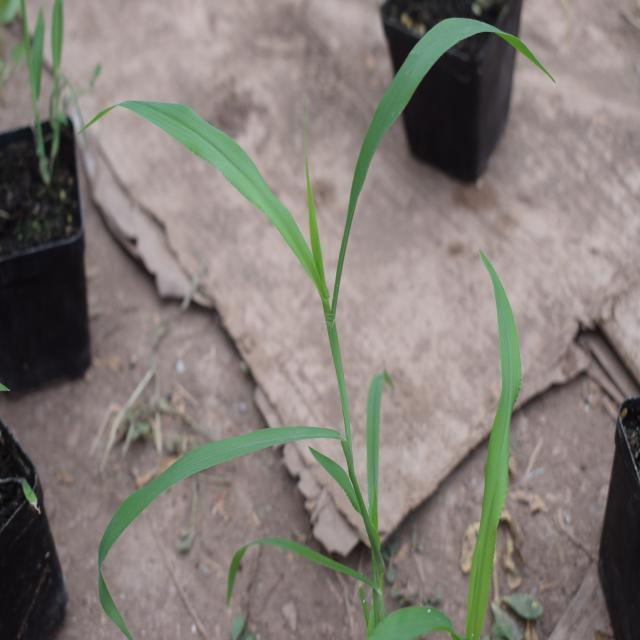crabgrass: (91, 25, 508, 520)
